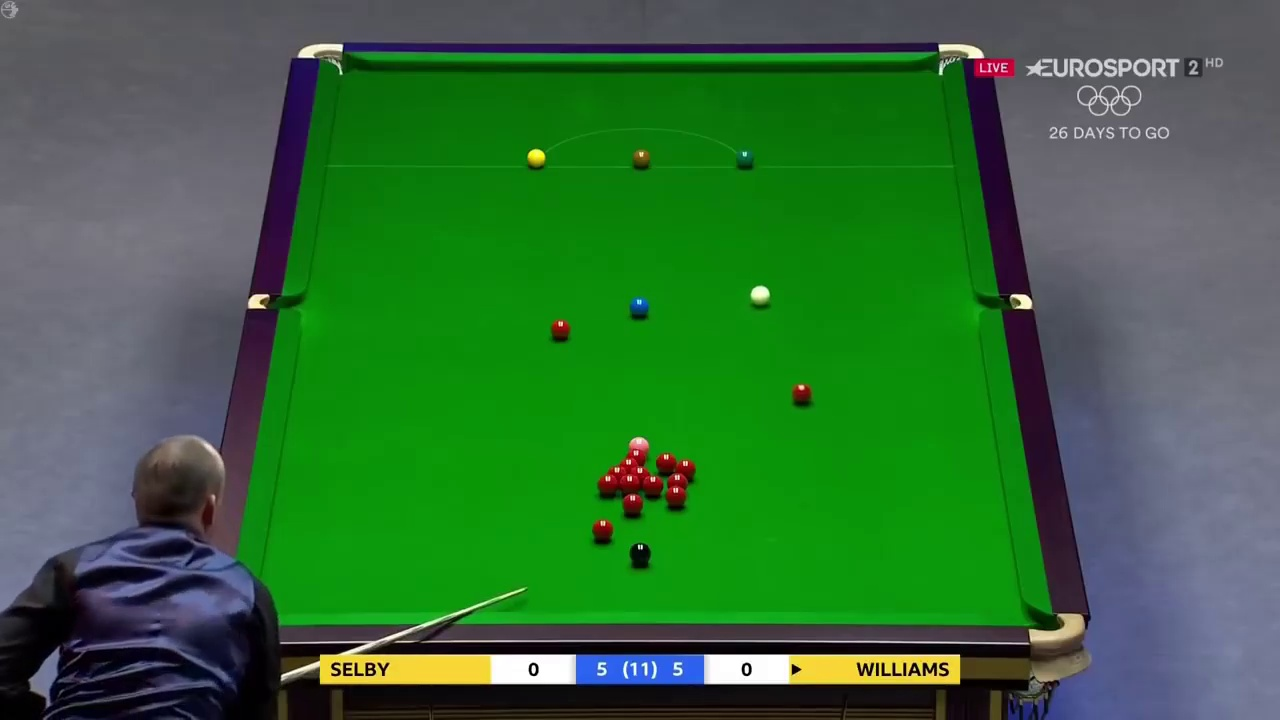ball: (748, 281, 774, 308), (627, 540, 651, 567), (545, 316, 570, 341), (621, 494, 643, 516), (734, 145, 755, 168), (592, 518, 613, 540), (630, 148, 650, 169), (527, 144, 546, 166), (631, 297, 650, 319), (666, 487, 684, 509)
